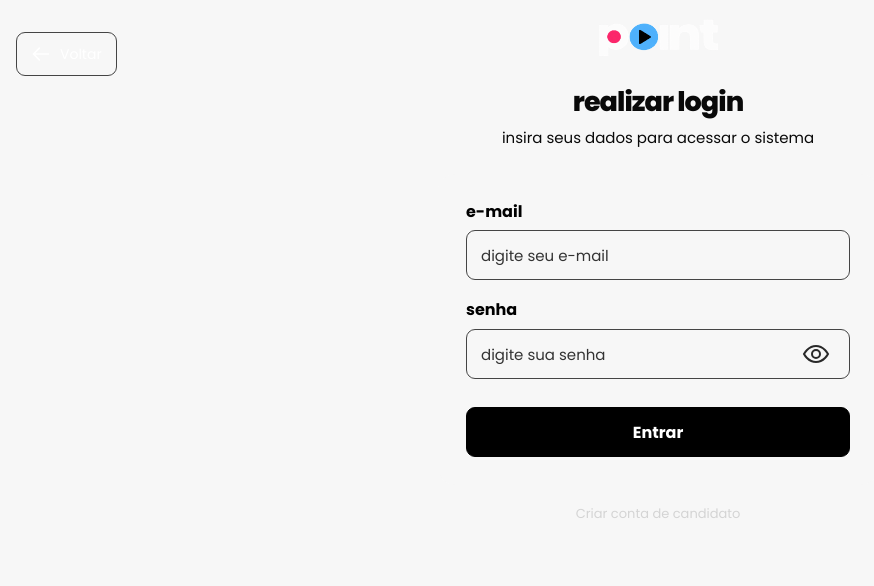
rejects invalid inputs before sending a request
Click the button "Entrar" at {"x": 658, "y": 432}, box top-left (466, 407), bottom-right (850, 457)
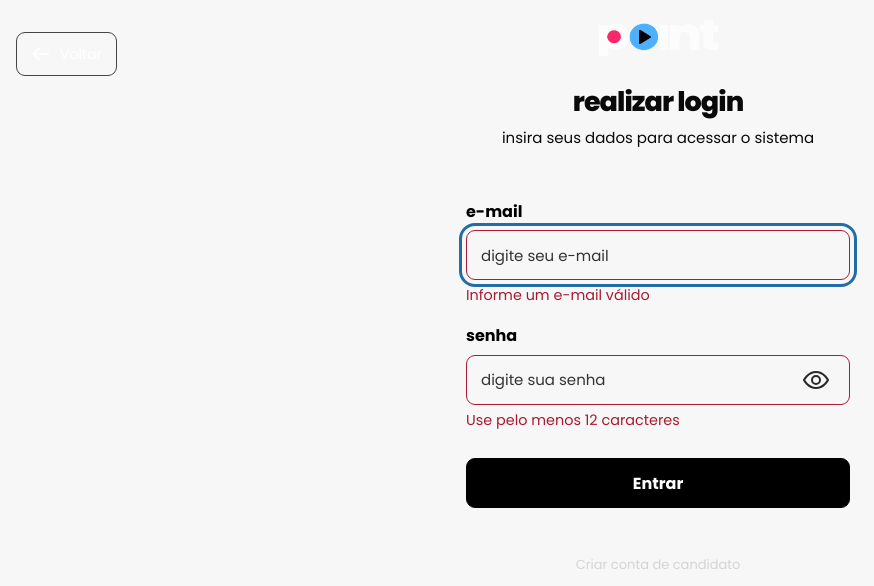
Check: the text "Informe um e-mail válido" is shown, box top-left (466, 285), bottom-right (650, 305)
